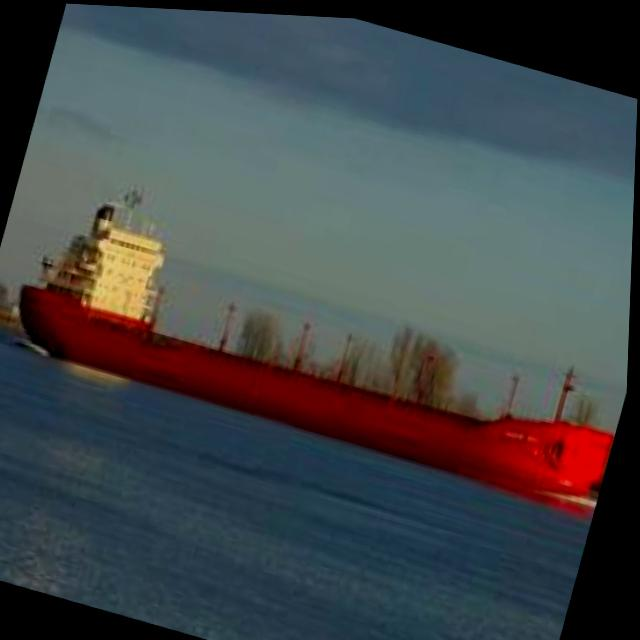ship2: (20, 187, 618, 491)
